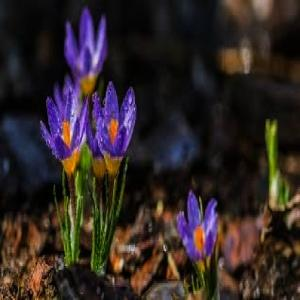Saffron: (90, 80, 138, 178), (60, 6, 106, 92), (41, 91, 87, 172), (182, 189, 222, 276)
